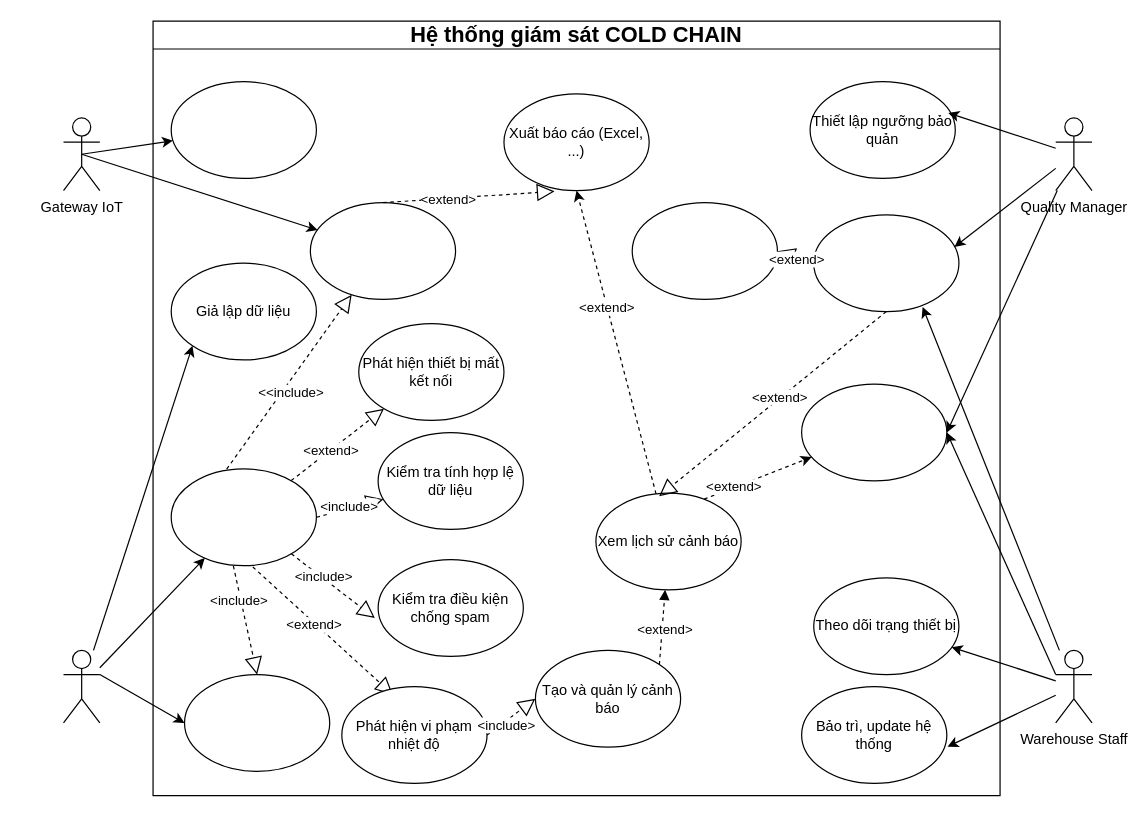
The diagram is 1148 pixels wide and 817 high, and some of its shapes have lost their labels. Here are the shapes that lost their labels. From the top down, the box of each, then its label:
(170, 80, 316, 178): Truyền dữ liệu cảm biến
(309, 201, 456, 299): Hiển thị và lưu trữ dữ liệu
(631, 201, 777, 299): Xem biểu đồ real-time ( Nhiệt độ, độ ẩm, GPS,..)
(813, 214, 959, 312): Xem Dashboard COLD CHAIN
(800, 383, 947, 481): Xử lý, ghi nhận cảnh báo
(170, 468, 316, 566): Kiểm tra ngưỡng và phát cảnh báo
(62, 649, 100, 723): Mock Data Service
(183, 673, 330, 771): Kiểm tra ngưỡng nhiệt độ
